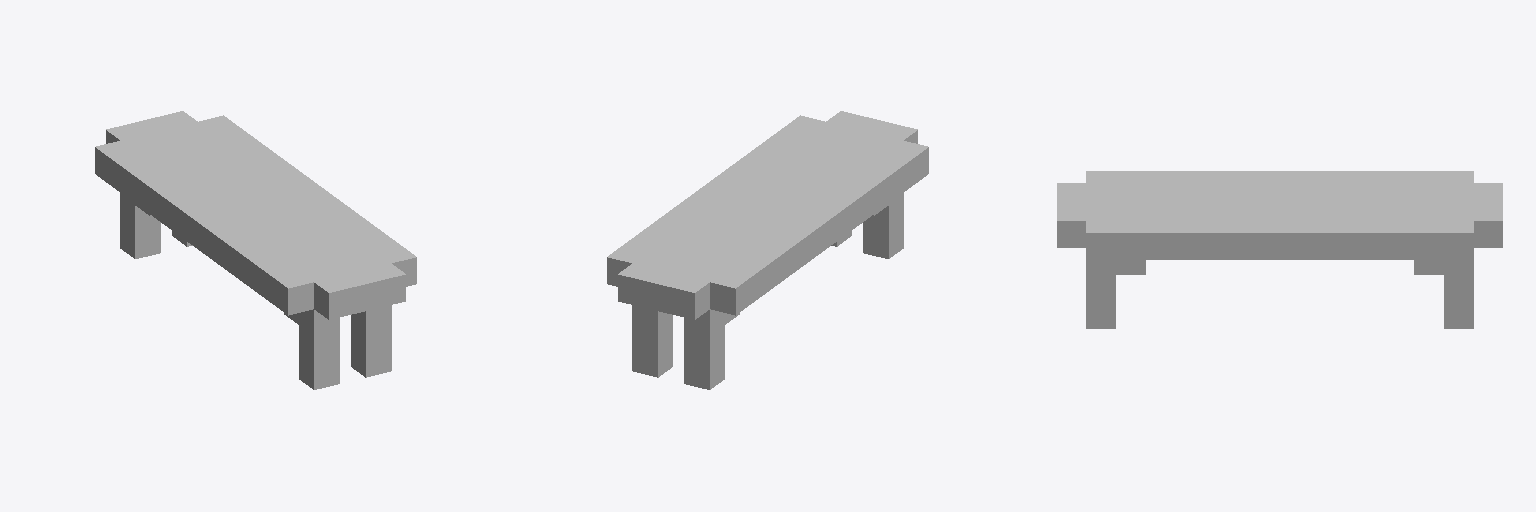
The model's file is villageBench-0.obj.
3 renders of one model, left to right at view 1: azimuth 30°, elevation 25°; view 2: azimuth 150°, elevation 25°; view 3: azimuth 270°, elevation 25°, orthographic.
Visible parts, largest first — view 1: object 1; view 2: object 1; view 3: object 1.
Part boxes in pixels (x1,y1,x2,y2): object 1: (95, 111, 416, 389); object 1: (607, 111, 928, 389); object 1: (1057, 171, 1502, 328).
Bounding box in the file's own units: 0.5 × 0.4 × 1.5.